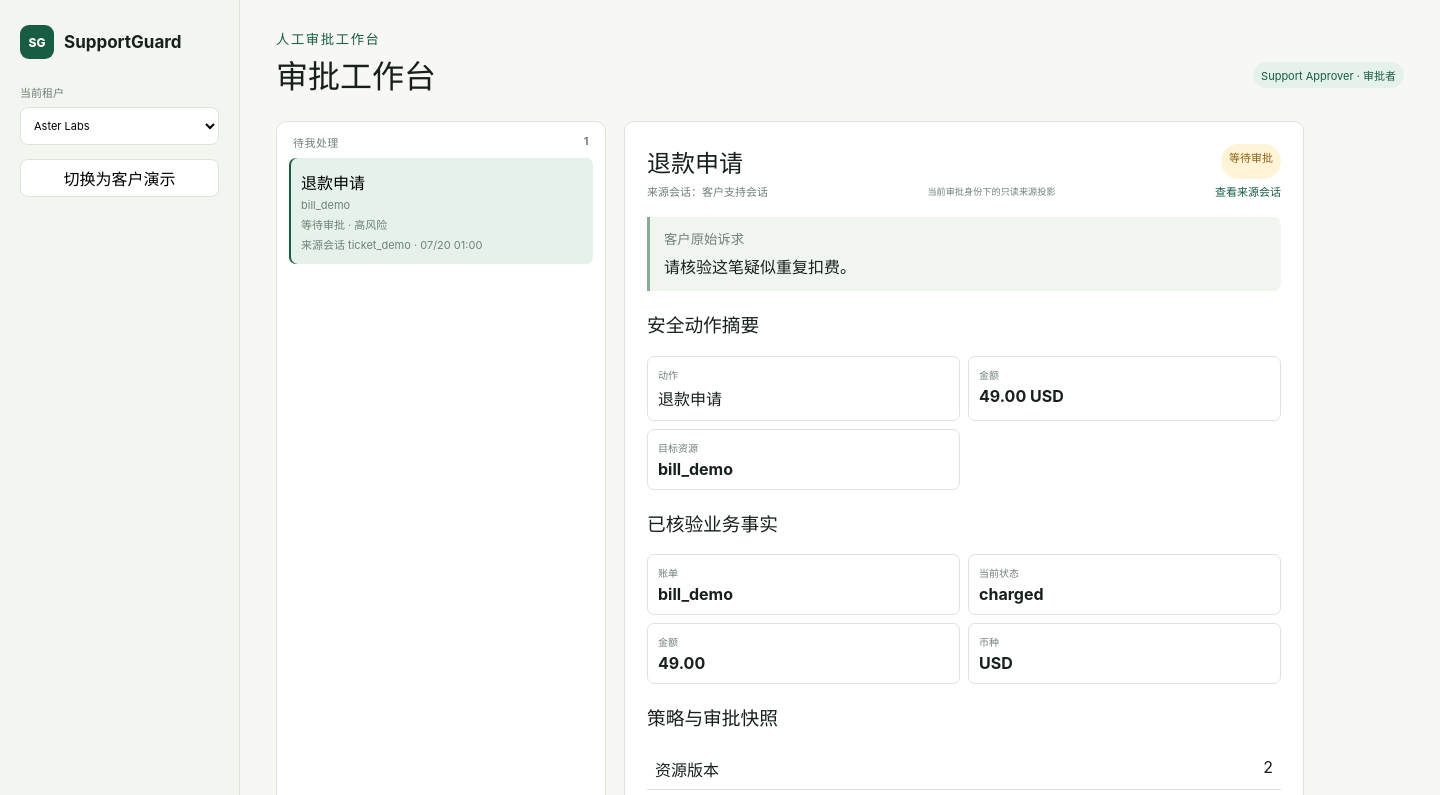
Test: Conversation-first product experience › deduplicates and stably sorts an overlapping older source page
The width and height of the screenshot is (1440, 795).
Click the button "查看来源会话" at (1248,191), box [1215, 179, 1281, 203]
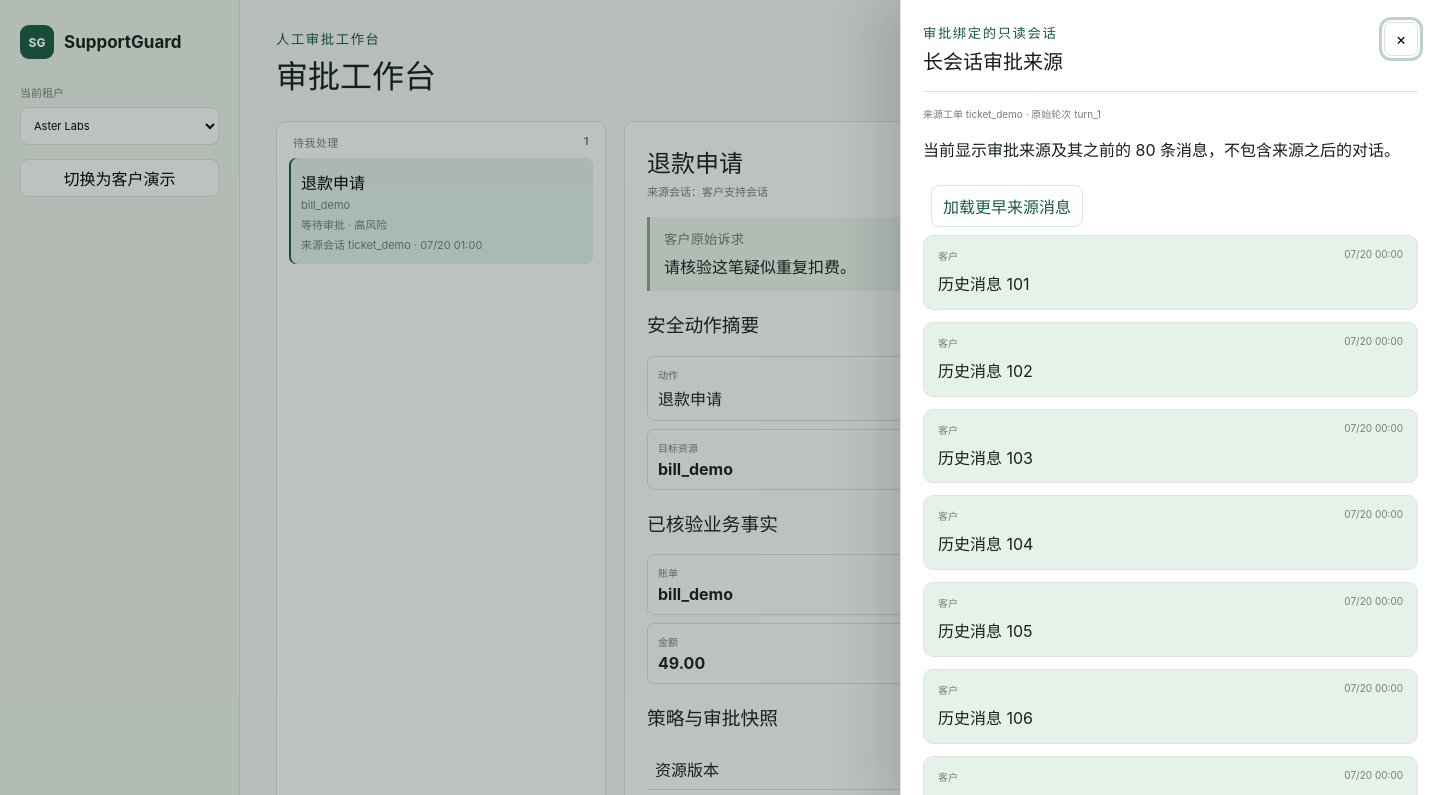
Click the button "加载更早来源消息" at (1007,206), box [931, 185, 1083, 227]
(page scrolled)
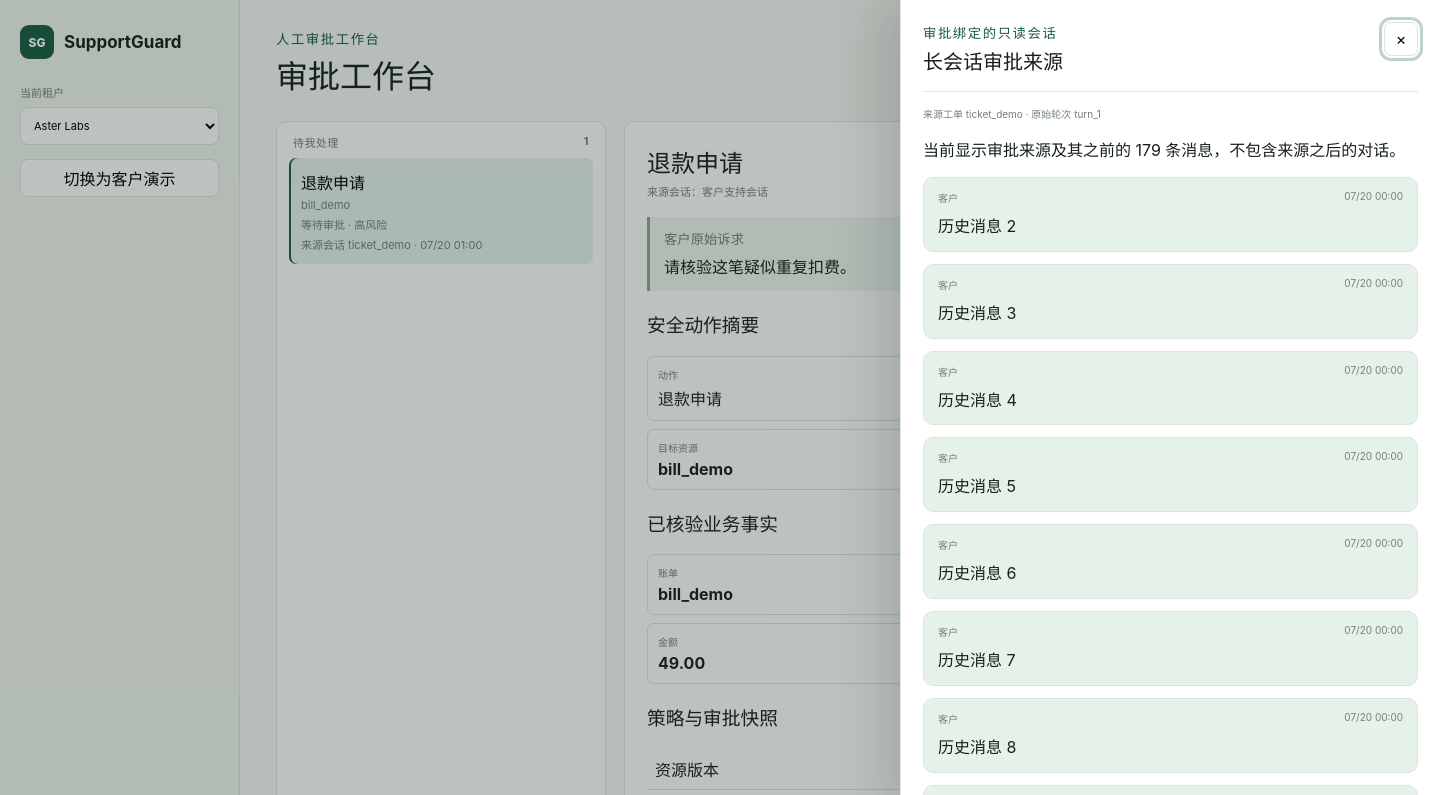
Result: the text "历史消息 2" is shown at [938, 216, 1016, 236]
